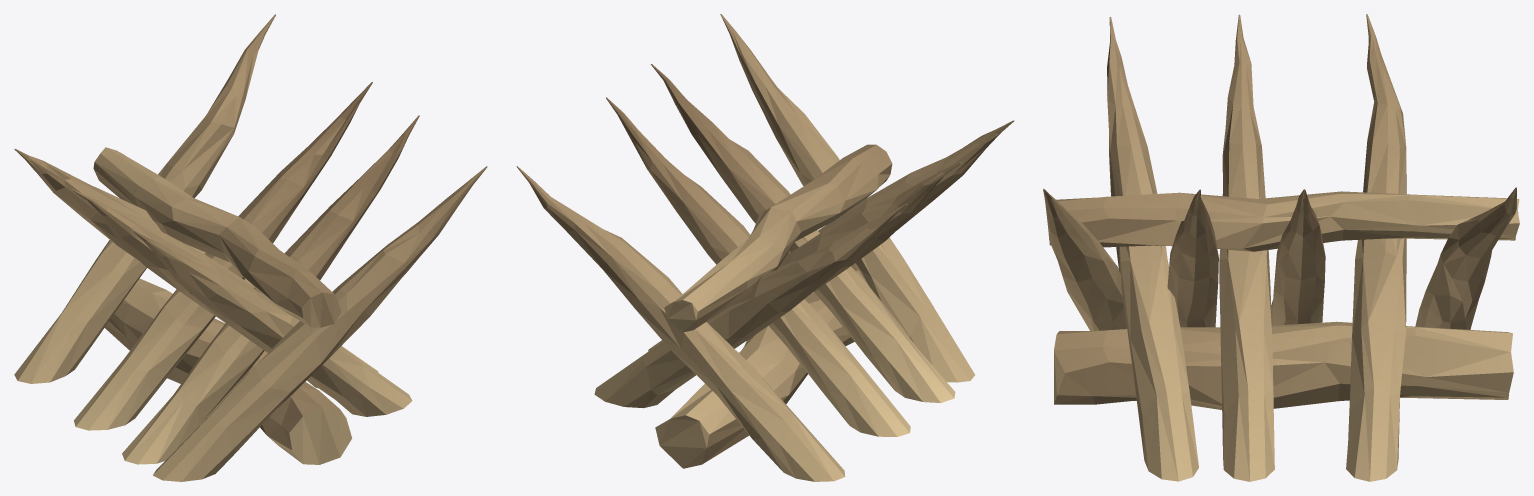
The model's file is spike.obj.
3 renders of one model, left to right at view 1: azimuth 30°, elevation 25°; view 2: azimuth 150°, elevation 25°; view 3: azimuth 270°, elevation 25°, orthographic. The views are drawn at different scales.
Visible parts, largest first — view 1: spike_Mesh; view 2: spike_Mesh; view 3: spike_Mesh.
Part boxes in pixels (x1,y1,x2,y2): spike_Mesh: (14,14,487,481); spike_Mesh: (516,14,1014,481); spike_Mesh: (1043,14,1519,481).
Size of the model in its own units: 1.93 by 1.49 by 2.12.
